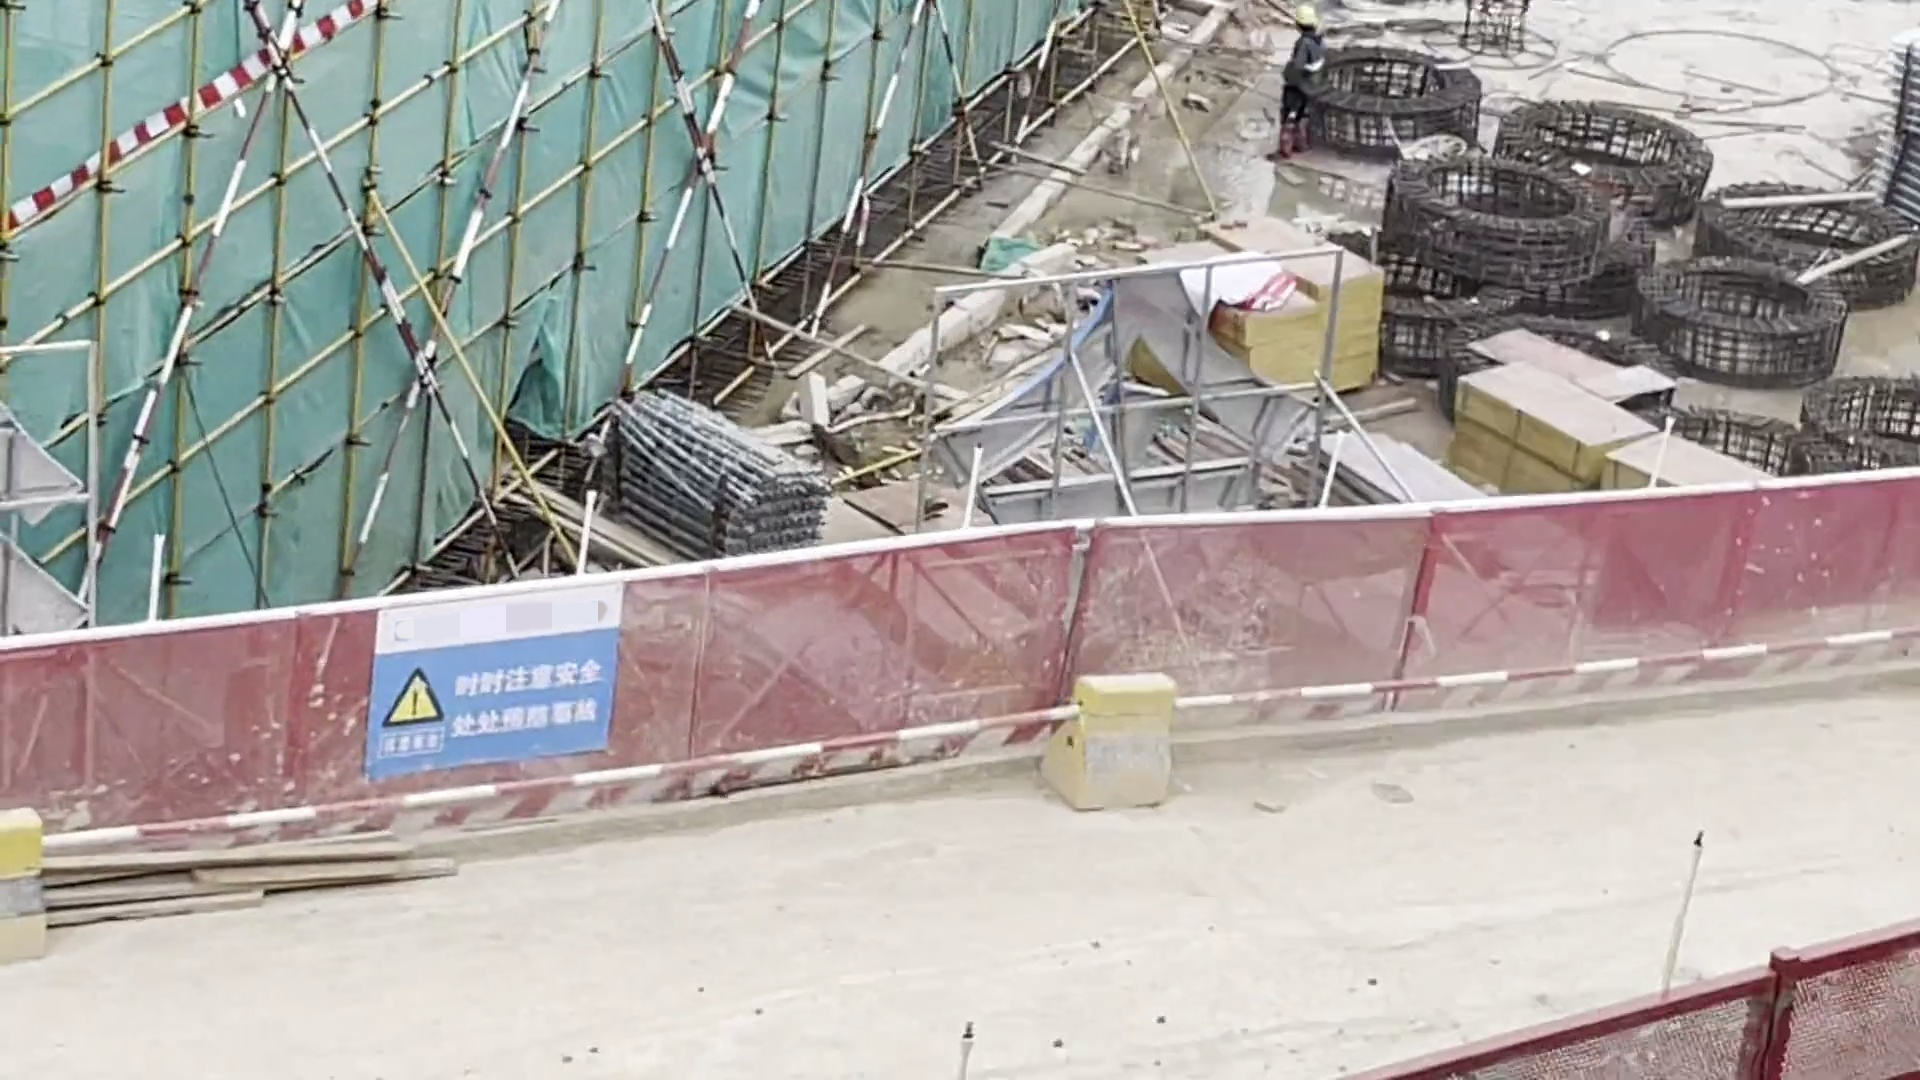board: (1163, 200, 1395, 392), (1452, 364, 1614, 501), (1622, 404, 1751, 498)
fence: (1, 525, 1879, 874)
scaffold: (607, 396, 825, 554)
slogan: (371, 615, 622, 761)
